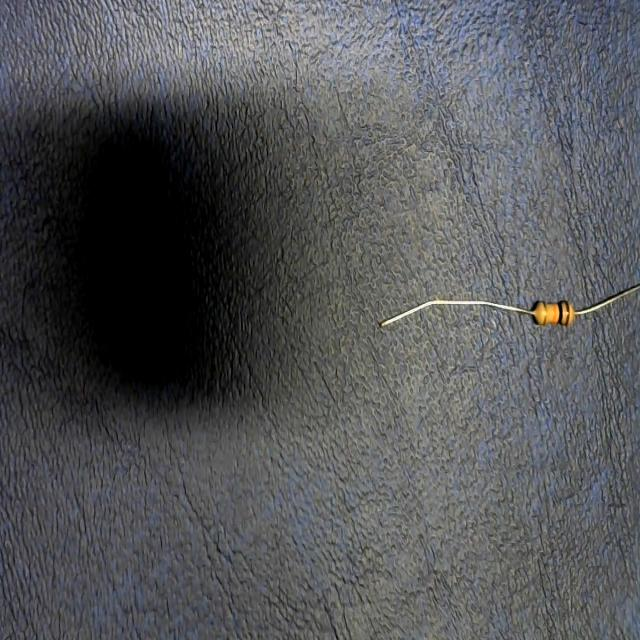resistor: (378, 292, 640, 338)
